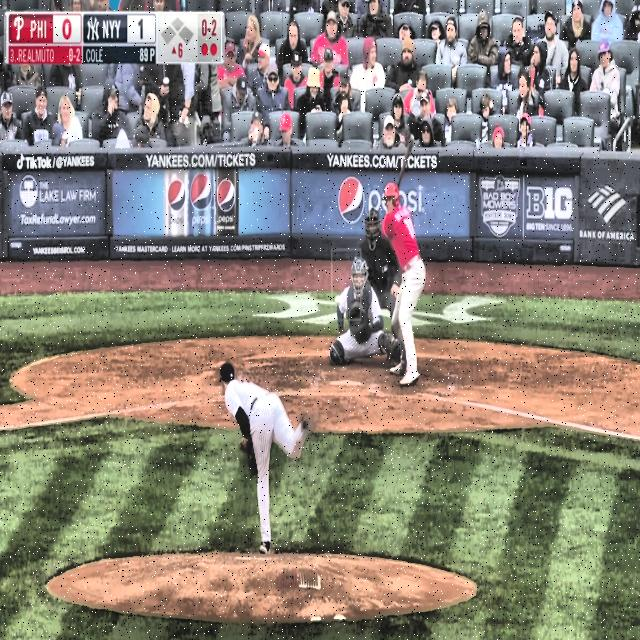baseball: (335, 296, 340, 305)
